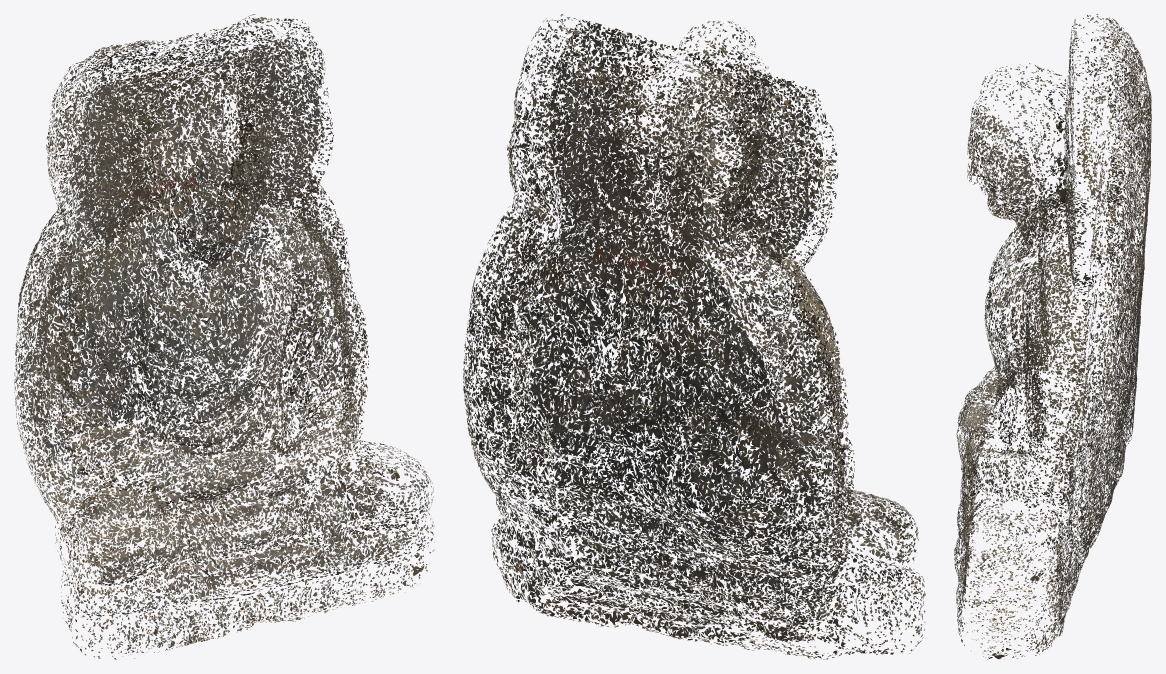
The picture shows the model from 3 angles, left to right: view 1: azimuth 30°, elevation 25°; view 2: azimuth 150°, elevation 25°; view 3: azimuth 270°, elevation 25°; orthographic projection. The views are drawn at different scales.
Visible parts, largest first — view 1: statue-034; view 2: statue-034; view 3: statue-034.
Part boxes in pixels (left/top/right/bottom): statue-034: left=14, top=14, right=434, bottom=659; statue-034: left=463, top=14, right=925, bottom=659; statue-034: left=954, top=14, right=1151, bottom=659.
Size of the model in its own units: 0.6875 by 0.9988 by 0.3414.
1 material, 1 textured.
